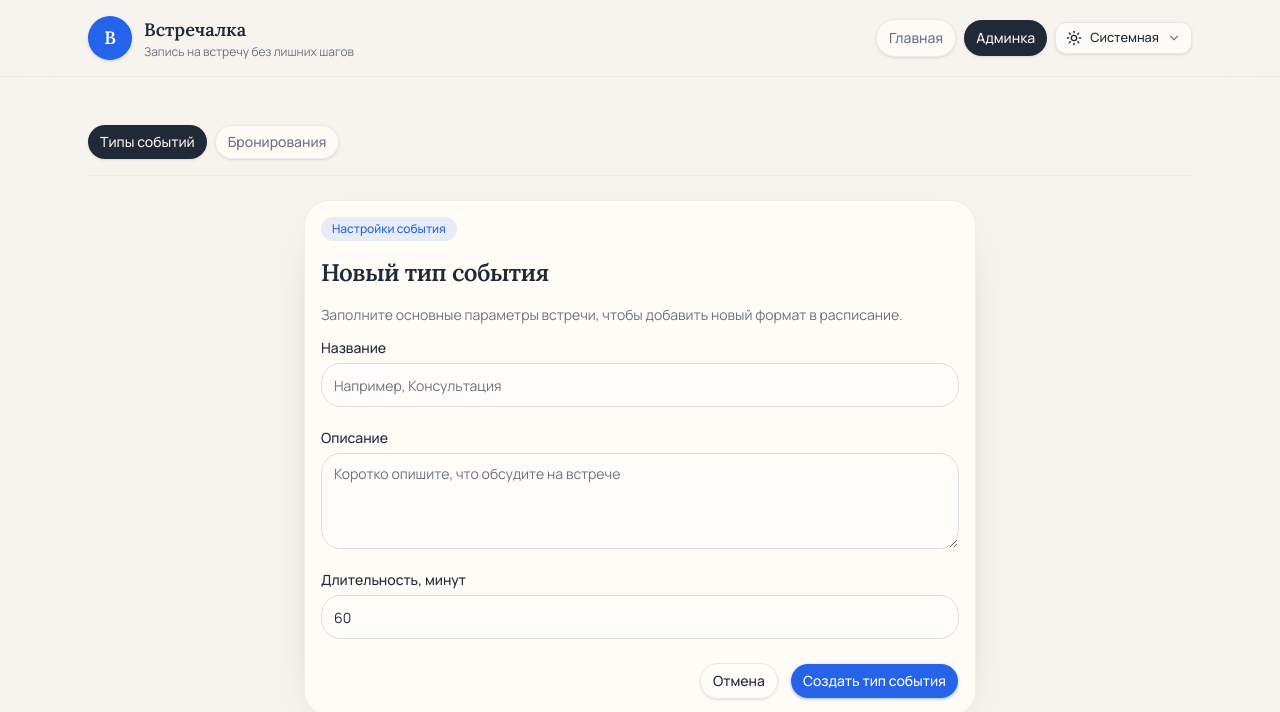
Scenario: error handling integration › shows validation errors for admin create flow
Type "Демо-звонок" into the field labelled "Название" at [640, 385], box x1=321 y1=363 x2=959 y2=407
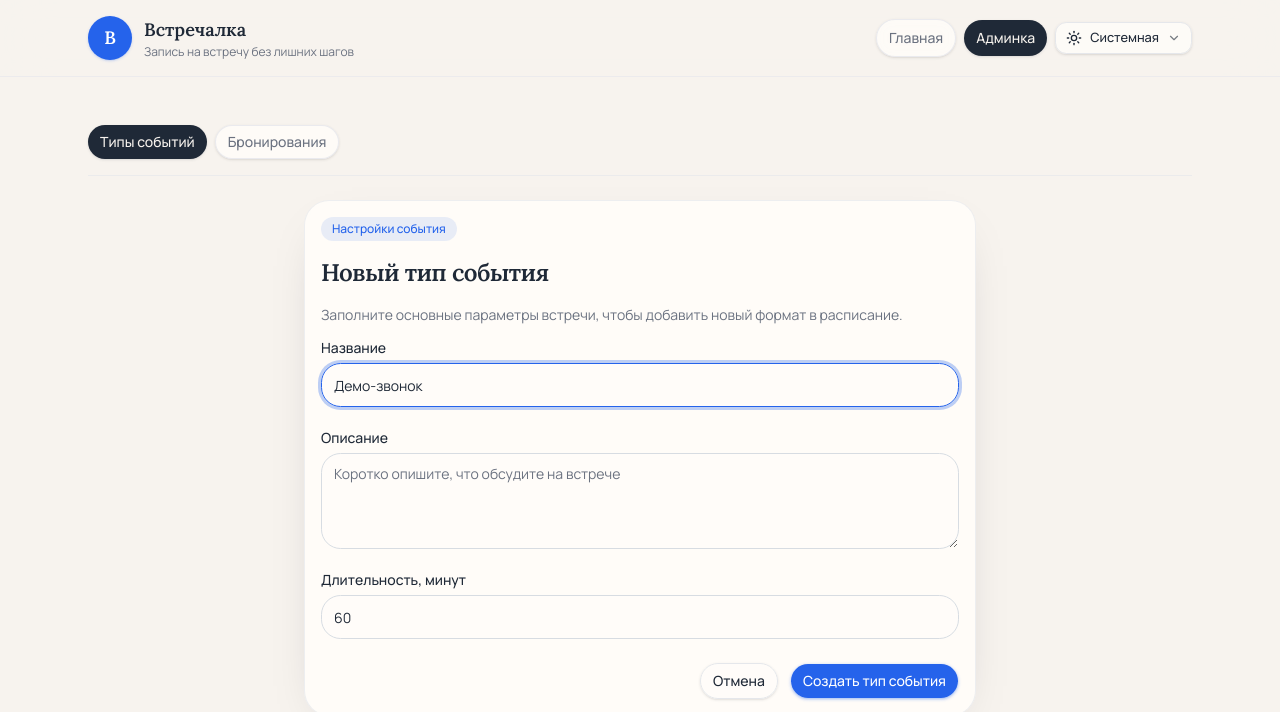
Type "Короткая синхронизация" into the text box labelled "Описание" at [640, 501], box x1=321 y1=453 x2=959 y2=549
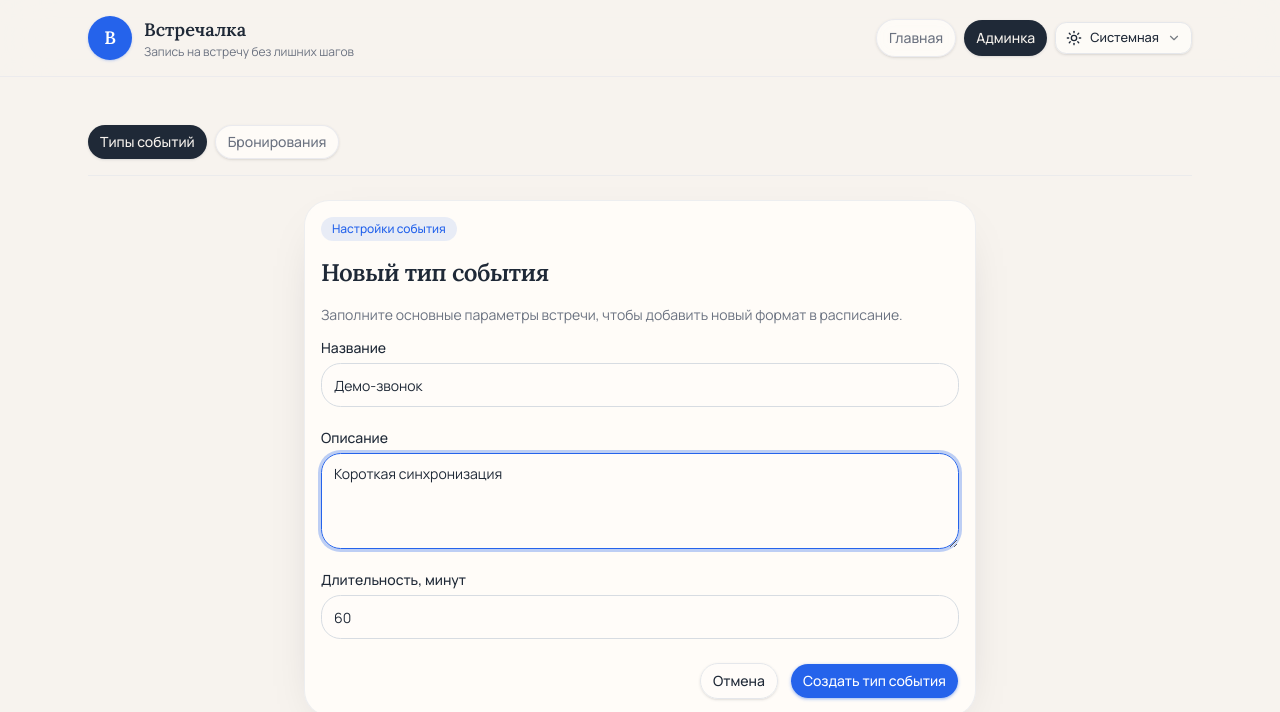
Replace the text in the number field labelled "Длительность, минут" with "30" at [640, 617], box x1=321 y1=595 x2=959 y2=639
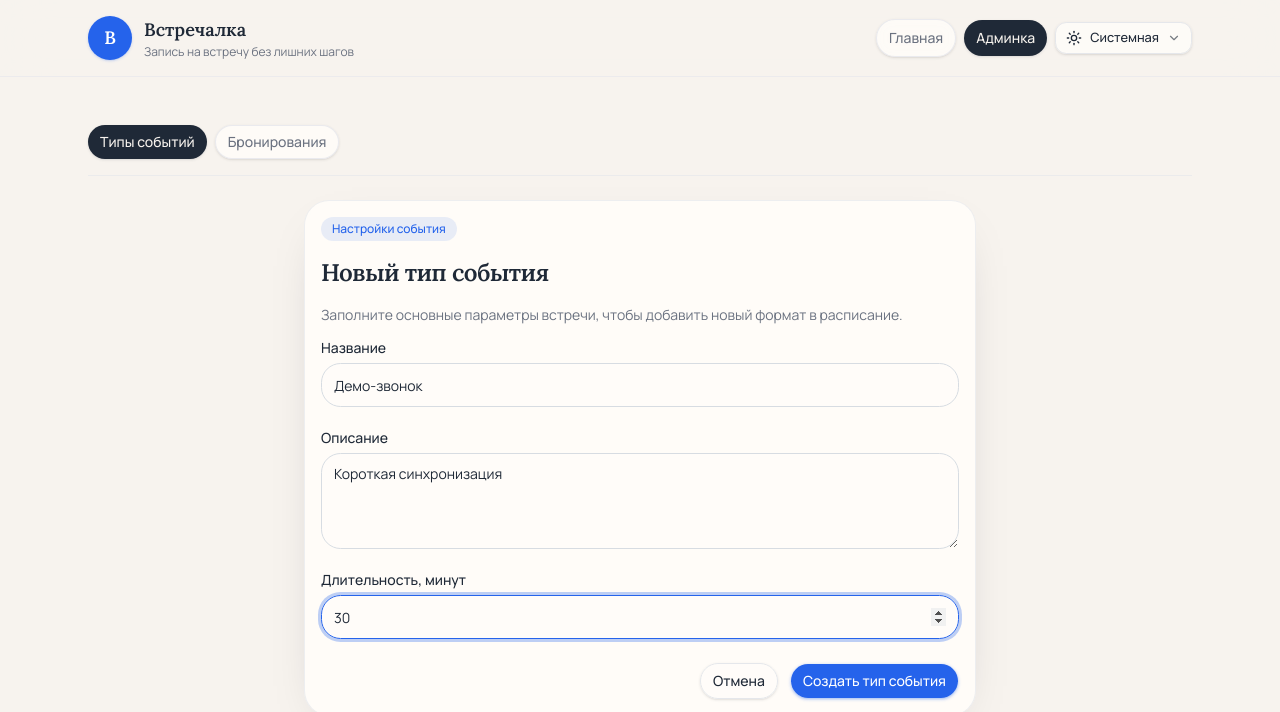
Click the button "Создать тип события" at [874, 681], box x1=790 y1=663 x2=959 y2=699
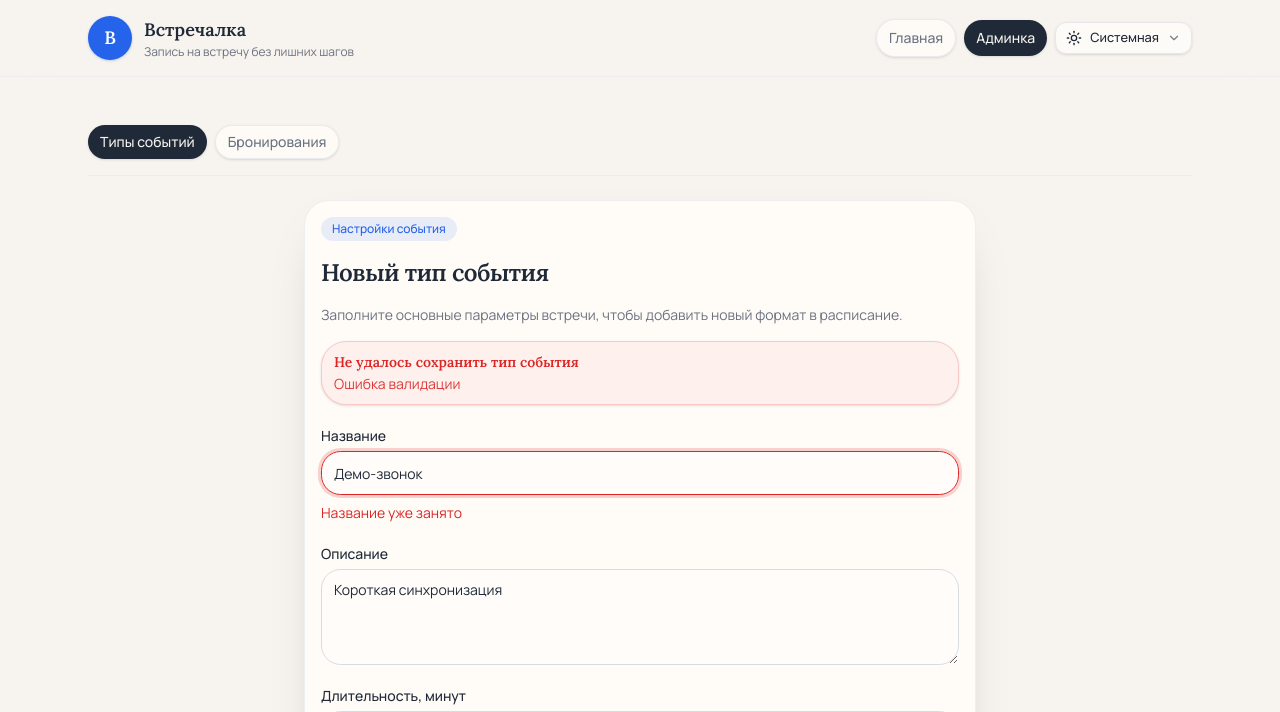
Check: the text "Название уже занято" is shown, box x1=321 y1=503 x2=462 y2=522
